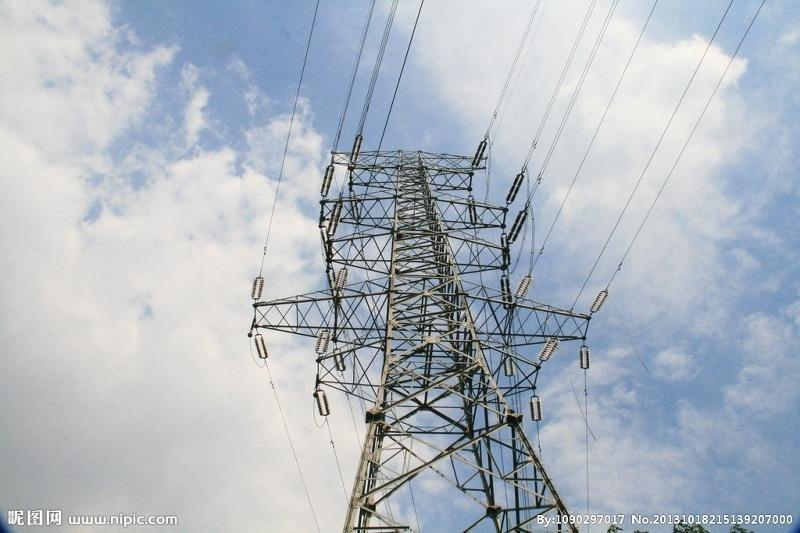power_tower: (246, 130, 612, 533)
